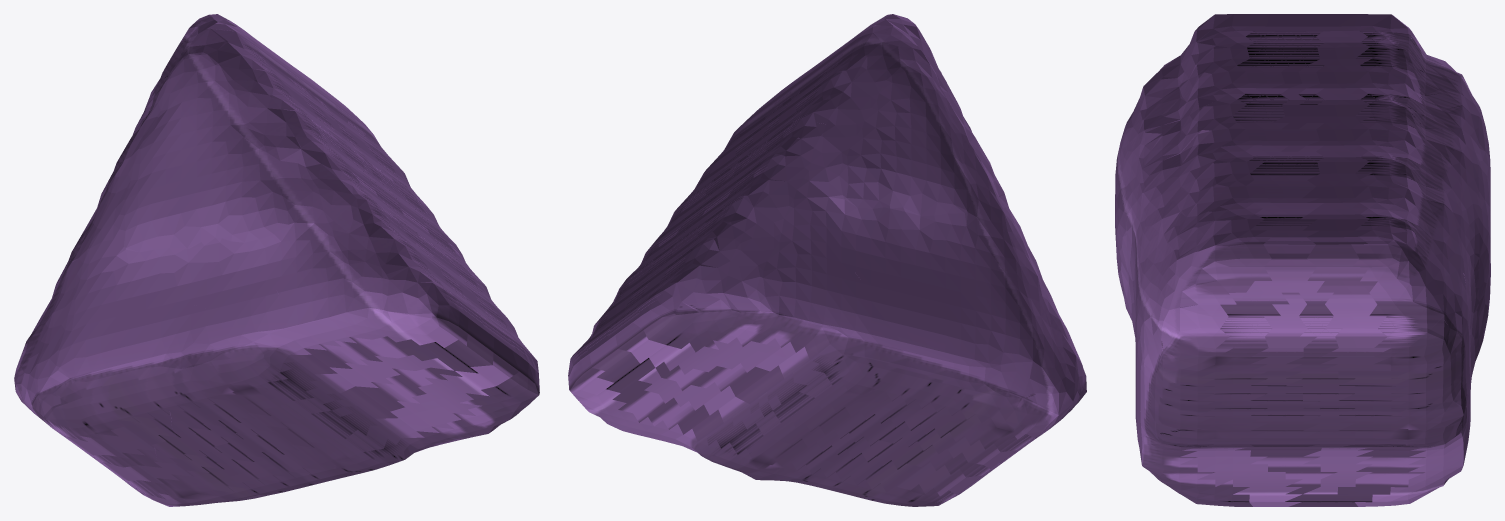
3 views of the same model, side by side, from view 1: azimuth 30°, elevation 25°; view 2: azimuth 150°, elevation 25°; view 3: azimuth 270°, elevation 25° (orthographic).
Visible parts, largest first — view 1: model; view 2: model; view 3: model.
Part boxes in pixels (bbox=[...]): model: bbox=[14, 14, 539, 506]; model: bbox=[568, 14, 1086, 506]; model: bbox=[1115, 14, 1490, 506].
Size of the model in its own units: 1 by 0.8597 by 0.74.
Materials: 1 (1 with a texture image).
